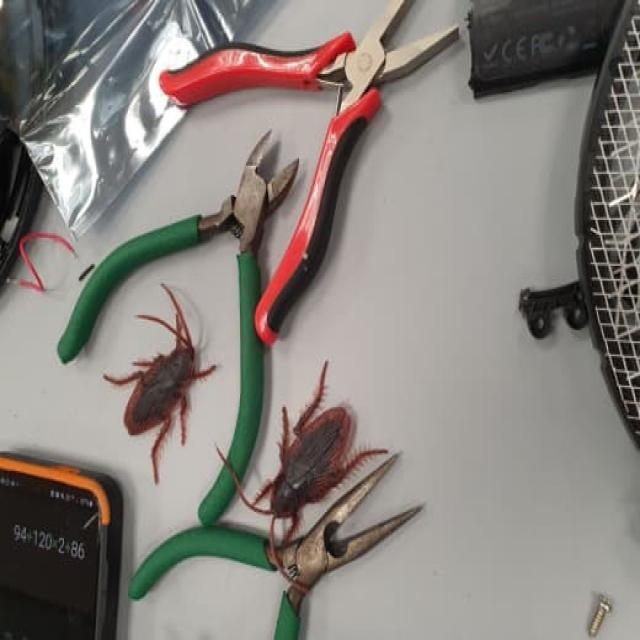Cockroach: (219, 358, 394, 596), (99, 278, 219, 480)
